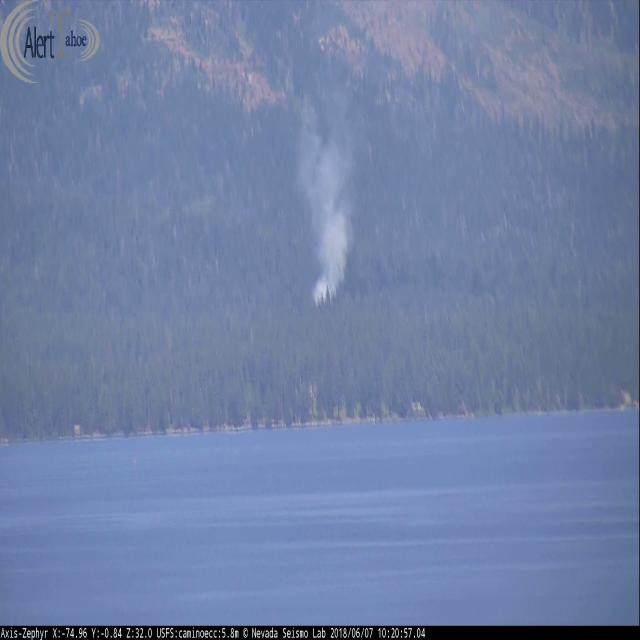smoke: (287, 84, 370, 314)
